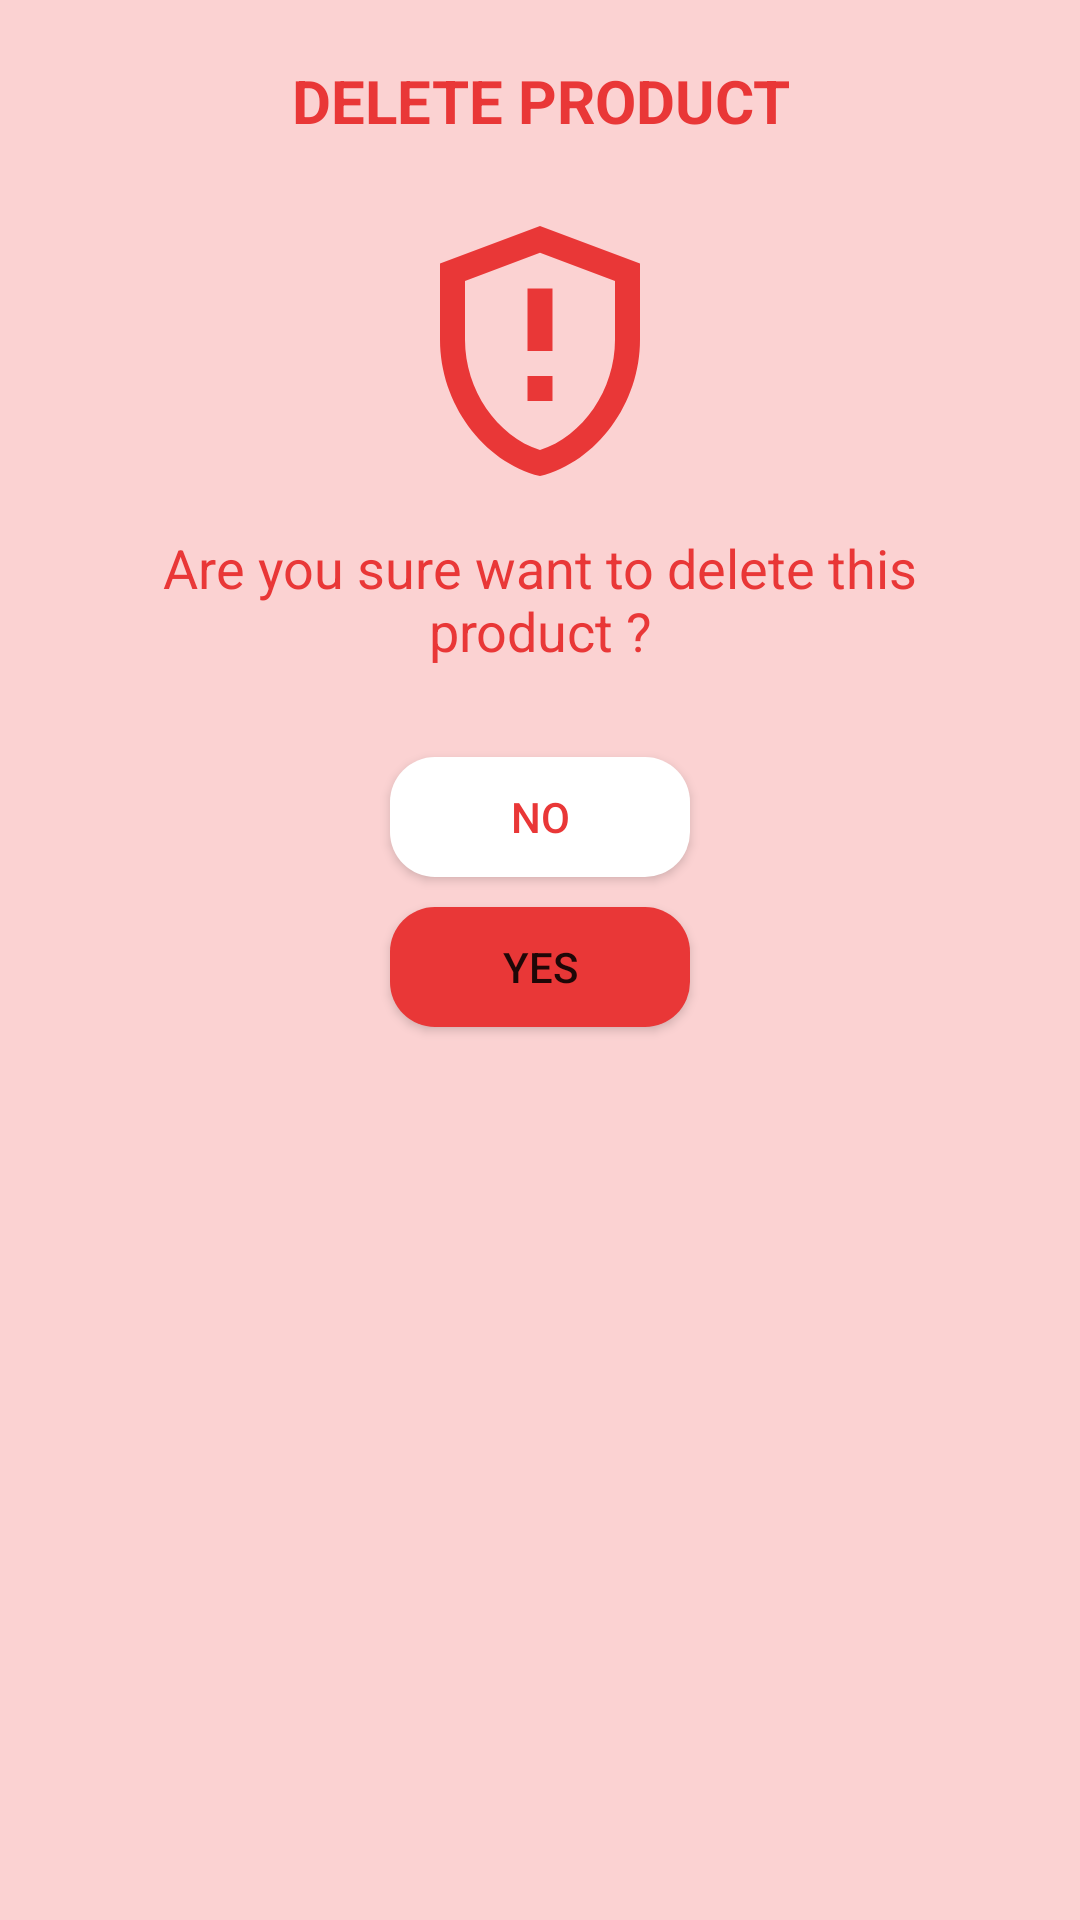

Named icons in this screenshot (1080 x 1920) and their centers, point (x, y):
delete alert: point (540, 351)
